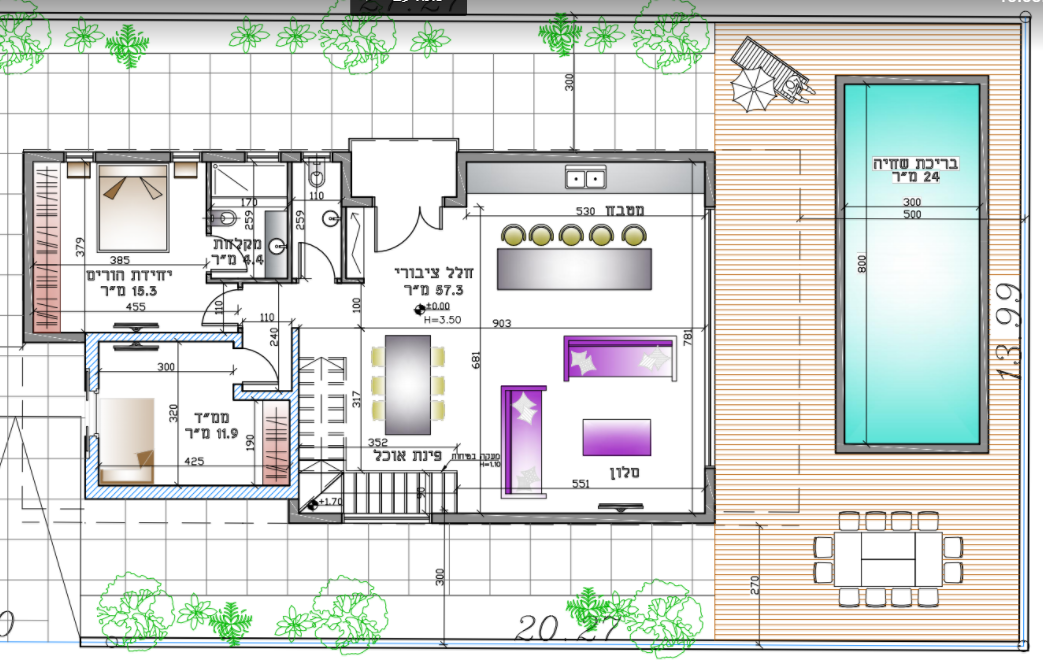door: (368, 209, 448, 258), (246, 342, 283, 388), (294, 239, 336, 276)
room: (21, 151, 212, 341), (84, 332, 241, 499), (206, 152, 293, 284)
wall: (85, 484, 298, 498), (432, 513, 715, 523), (457, 153, 714, 162), (23, 151, 34, 344), (85, 331, 244, 342)
window: (704, 208, 715, 470), (342, 512, 431, 524), (246, 150, 278, 162), (300, 149, 331, 161), (65, 151, 93, 162), (171, 151, 199, 162)
